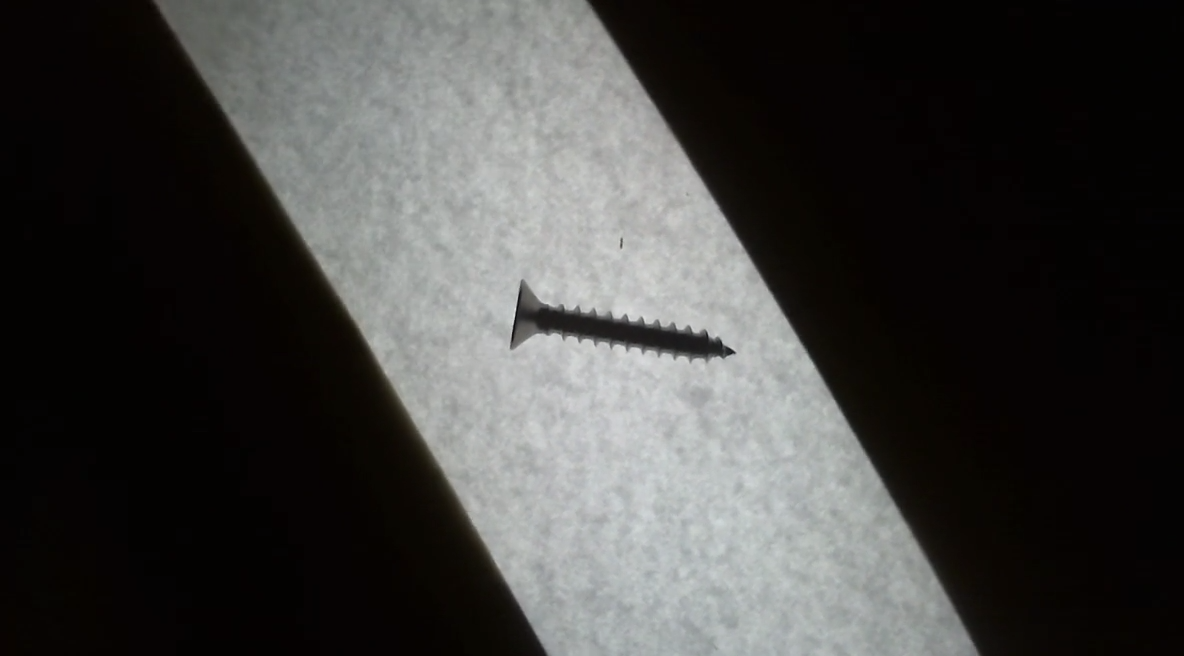S001: (490, 263, 751, 377)
